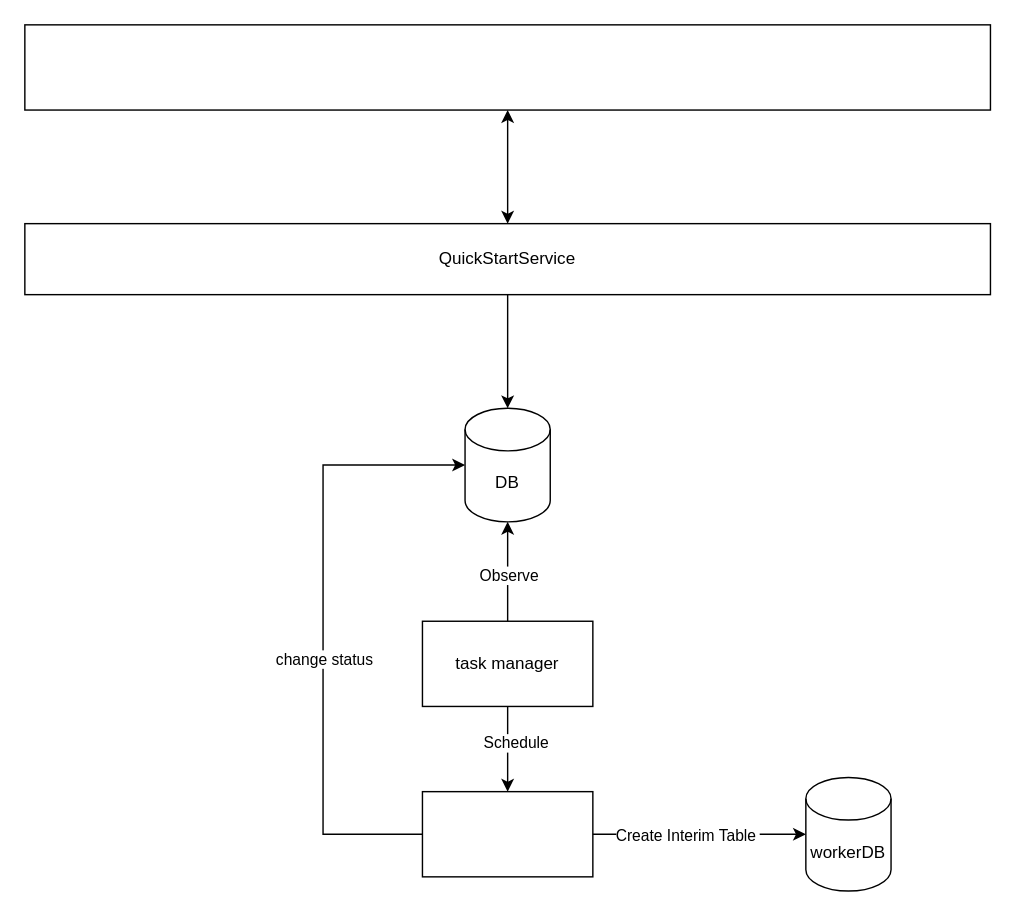
Some shapes in this 1015 by 916 pixel diagram are drawn without their labels. The centre of each missing label's shape, as x and y in pixels:
"task worker" goes at (507,833).
"UI" goes at (506,66).
